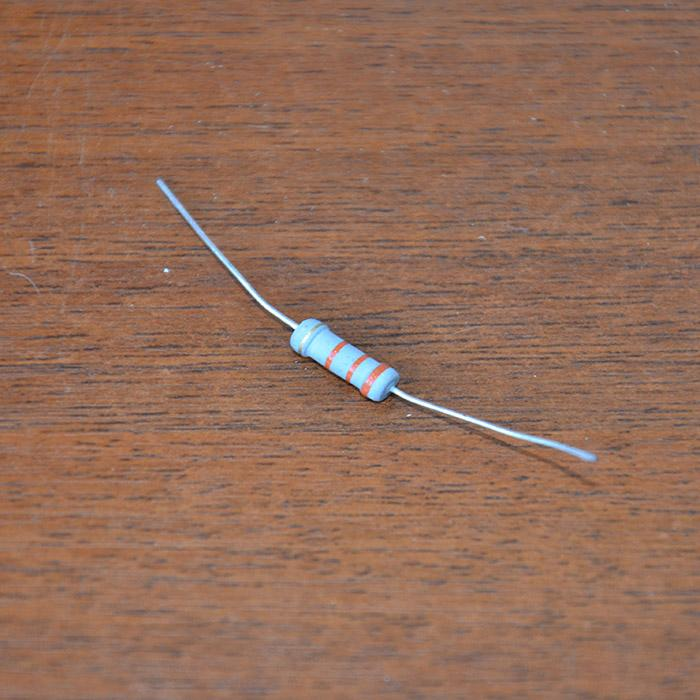resistor: (289, 316, 400, 402)
